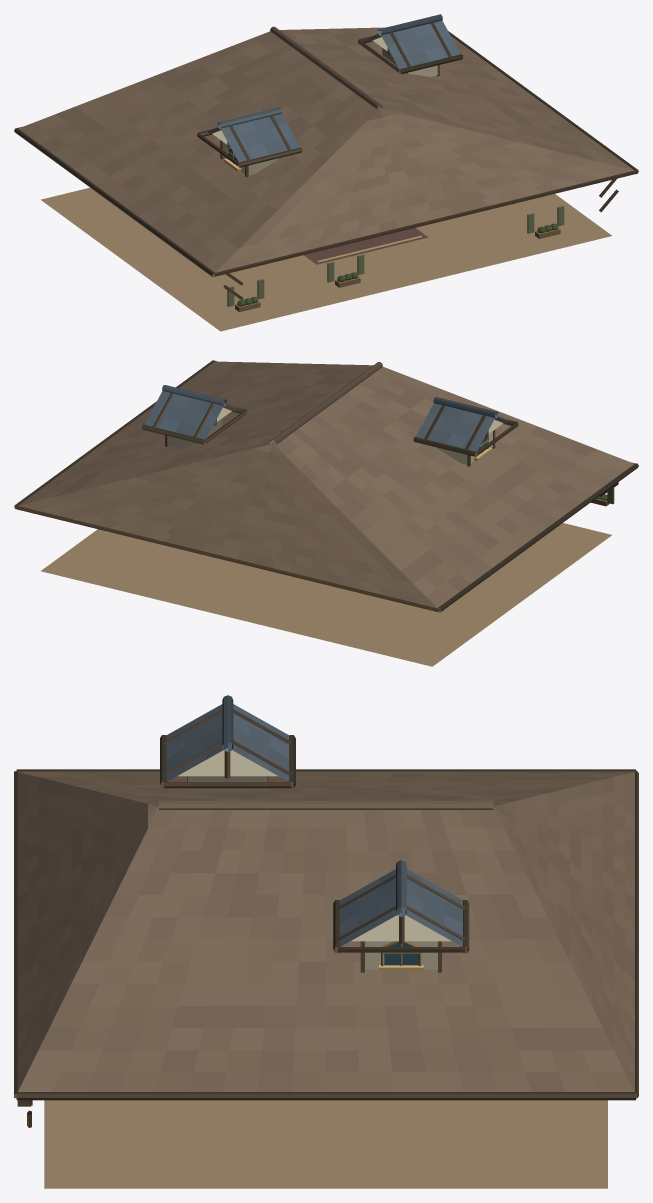
The picture shows the model from 3 angles, top to bottom: view 1: azimuth 30°, elevation 25°; view 2: azimuth 150°, elevation 25°; view 3: azimuth 270°, elevation 25°; orthographic projection. The views are drawn at different scales.
Visible parts, largest first — view 1: f2e7782727a90fbe68392810ad7e43f960fd8d14b4a233e79b501cd3bc53; view 2: f2e7782727a90fbe68392810ad7e43f960fd8d14b4a233e79b501cd3bc53; view 3: f2e7782727a90fbe68392810ad7e43f960fd8d14b4a233e79b501cd3bc53.
Part boxes in pixels (x1=…): f2e7782727a90fbe68392810ad7e43f960fd8d14b4a233e79b501cd3bc53: x1=14, y1=14, x2=638, y2=331; f2e7782727a90fbe68392810ad7e43f960fd8d14b4a233e79b501cd3bc53: x1=14, y1=360, x2=638, y2=666; f2e7782727a90fbe68392810ad7e43f960fd8d14b4a233e79b501cd3bc53: x1=14, y1=695, x2=638, y2=1188.
Bounding box in the file's own units: 16.02 × 5.45 × 12.97.
Materials: 6 (1 with a texture image).
